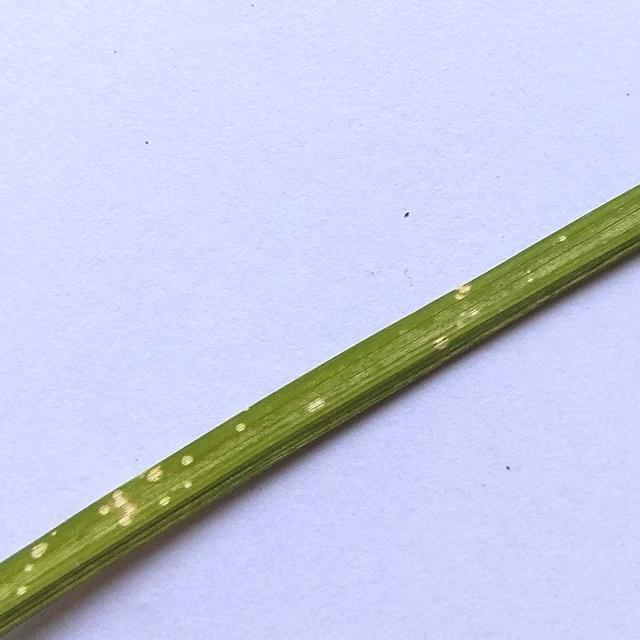Blast: (100, 499, 145, 526), (304, 397, 332, 413), (136, 470, 168, 483), (31, 544, 53, 560), (457, 283, 477, 300), (156, 500, 184, 512), (13, 588, 40, 600), (430, 334, 450, 350), (177, 456, 198, 469), (232, 422, 246, 432), (24, 564, 36, 572)
